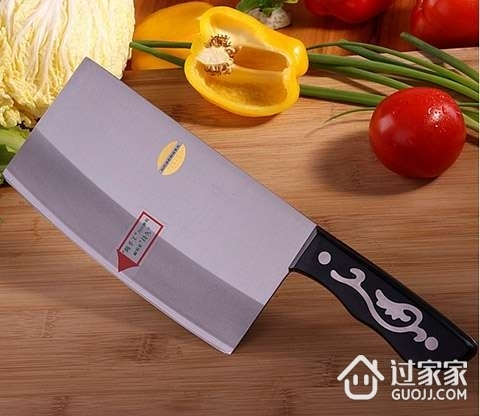knief: (18, 74, 462, 353)
